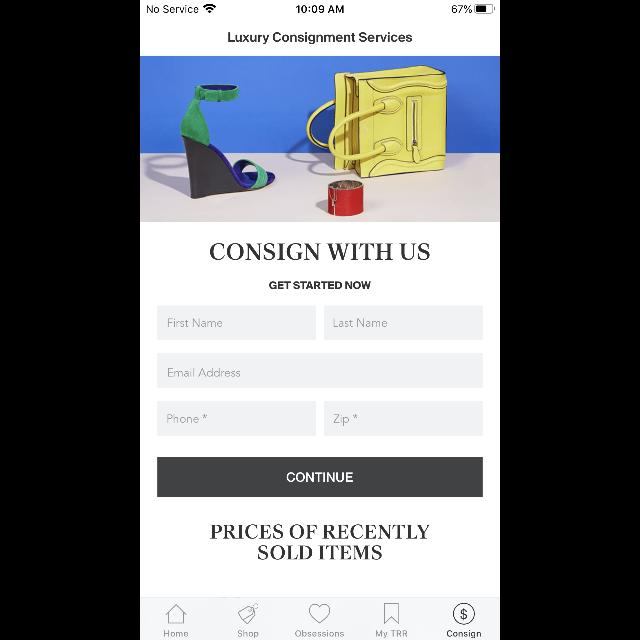icon: (454, 604, 474, 624), (238, 604, 258, 624), (166, 604, 187, 622), (310, 604, 330, 622), (384, 602, 398, 624)
image: (140, 56, 500, 222)
input: (158, 354, 482, 388), (324, 402, 482, 436), (158, 402, 316, 436), (324, 306, 482, 340), (158, 306, 316, 340)
text: (210, 524, 430, 560), (210, 242, 430, 260), (228, 32, 412, 44), (270, 281, 370, 289), (168, 368, 240, 377), (168, 319, 222, 327), (334, 319, 386, 327), (168, 413, 206, 422), (334, 414, 358, 426), (296, 630, 344, 636), (447, 630, 481, 638), (376, 630, 406, 638), (238, 630, 258, 638), (164, 630, 188, 636)
textbutton: (158, 457, 482, 497)
uppertaskbar: (140, 0, 500, 14)
